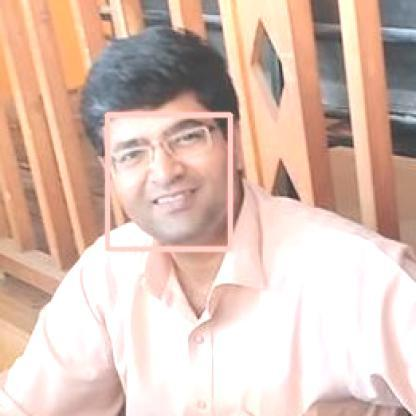without_mask: (107, 114, 229, 248)
